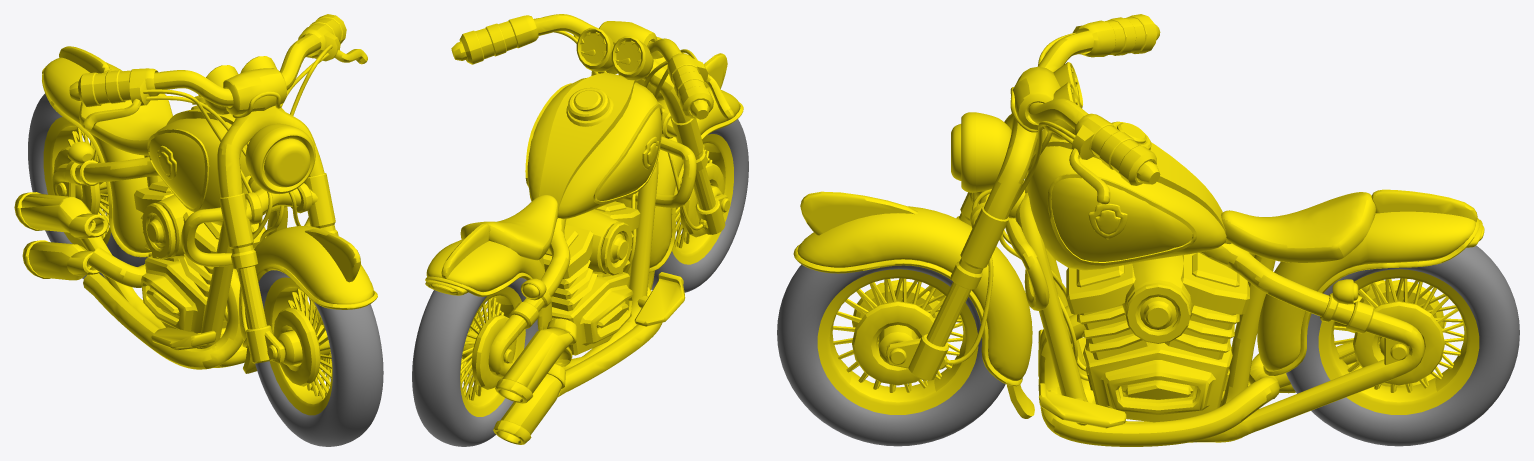
File: xee mutu.fbx
The picture shows the model from 3 angles, left to right: view 1: azimuth 30°, elevation 25°; view 2: azimuth 150°, elevation 25°; view 3: azimuth 270°, elevation 25°; orthographic projection. The views are drawn at different scales.
Parts seen in each view (by area): view 1: Cylinder_002_Material_006_0, Circle_012_Mishelin_0, Circle_003_Mishelin_0; view 2: Cylinder_002_Material_006_0, Circle_003_Mishelin_0, Circle_012_Mishelin_0; view 3: Cylinder_002_Material_006_0, Circle_003_Mishelin_0, Circle_012_Mishelin_0.
Part boxes in pixels (<box>): Cylinder_002_Material_006_0: <box>14,14,377,415</box>; Circle_012_Mishelin_0: <box>255,270,383,446</box>; Circle_003_Mishelin_0: <box>28,93,148,279</box>; Cylinder_002_Material_006_0: <box>425,14,743,444</box>; Circle_003_Mishelin_0: <box>412,278,538,446</box>; Circle_012_Mishelin_0: <box>651,119,748,292</box>; Cylinder_002_Material_006_0: <box>793,14,1484,446</box>; Circle_003_Mishelin_0: <box>1286,245,1519,446</box>; Circle_012_Mishelin_0: <box>777,264,1005,446</box>.
Bounding box in the file's own units: 165 × 182 × 329.
